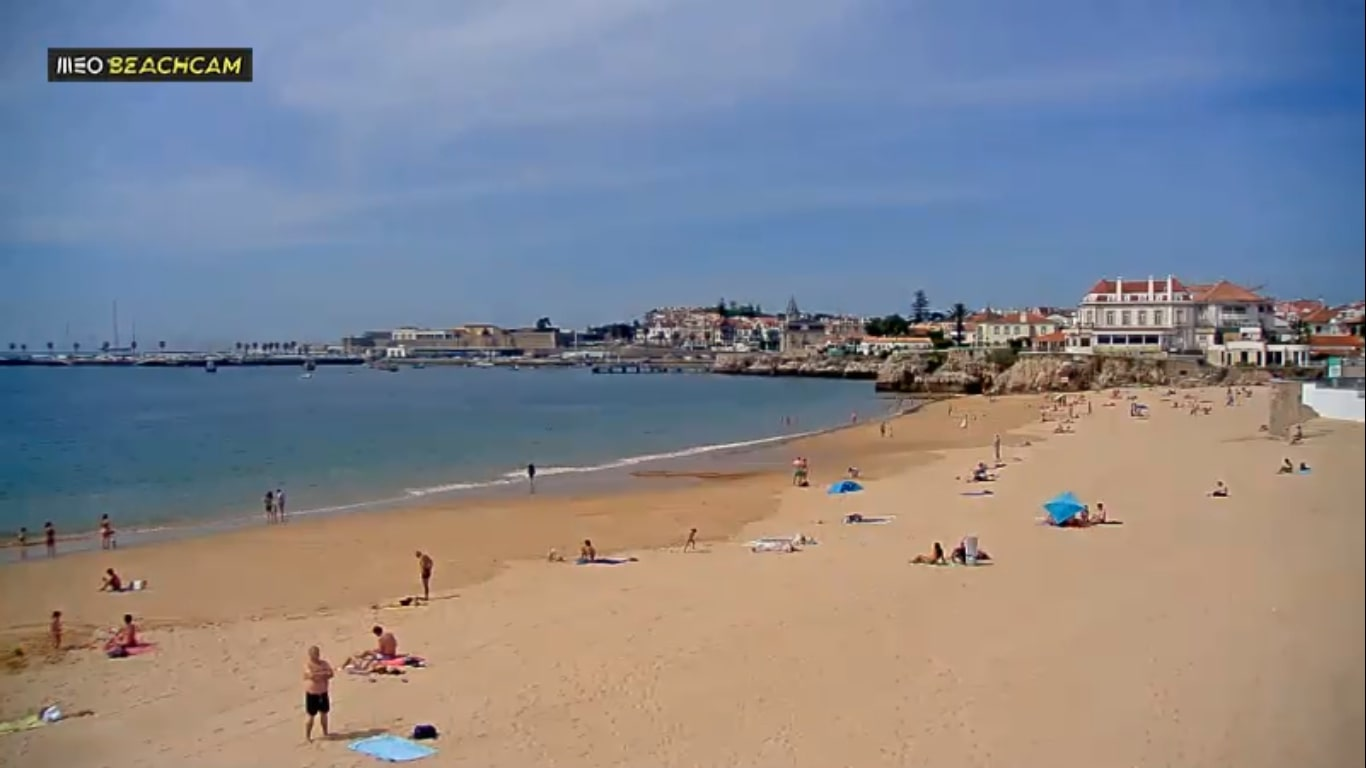person: (300, 644, 337, 741), (342, 656, 406, 676), (361, 624, 399, 654), (908, 540, 947, 567), (109, 615, 138, 651), (415, 548, 435, 598), (44, 611, 66, 652), (98, 566, 130, 592), (96, 514, 119, 546), (680, 527, 702, 555), (791, 456, 809, 485), (578, 538, 600, 561), (43, 520, 57, 551), (275, 488, 287, 522), (1211, 479, 1228, 498), (263, 489, 273, 520), (1093, 502, 1107, 524), (526, 461, 536, 490), (1278, 457, 1293, 475), (991, 433, 1001, 459), (1290, 425, 1303, 444), (547, 545, 564, 559), (846, 465, 861, 478), (17, 526, 26, 546), (1190, 403, 1199, 416), (1223, 394, 1232, 407), (879, 420, 885, 437), (947, 401, 953, 416), (1053, 423, 1063, 432), (1087, 399, 1092, 415), (1068, 403, 1073, 416), (852, 409, 856, 423)
